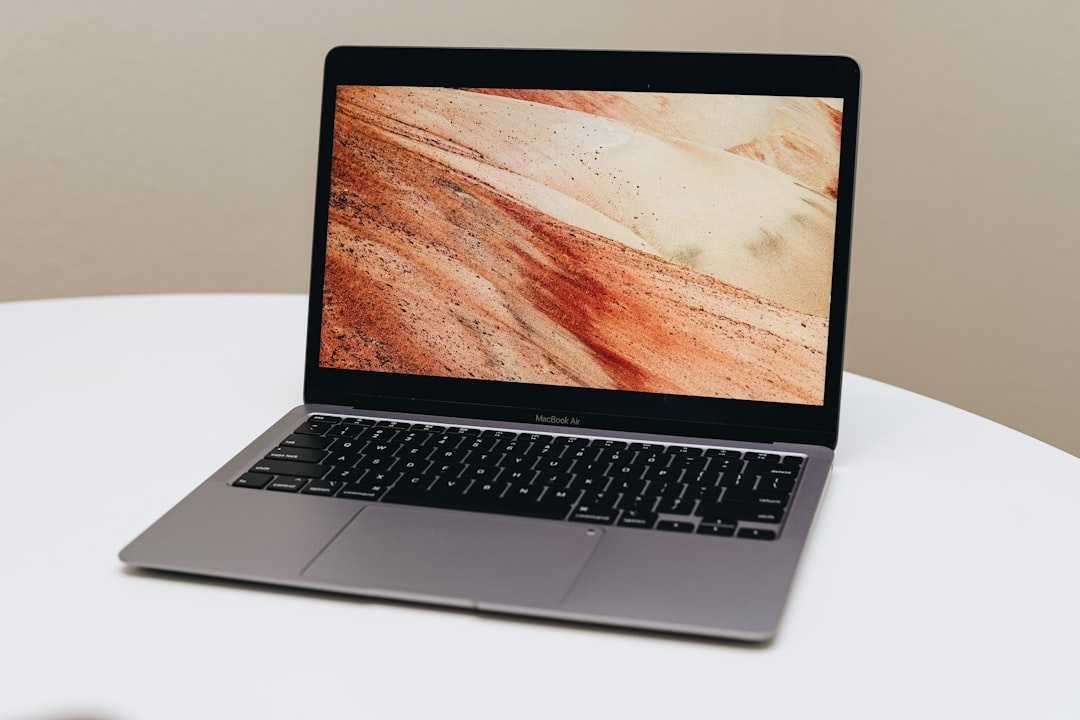laptop: (105, 14, 881, 663)
